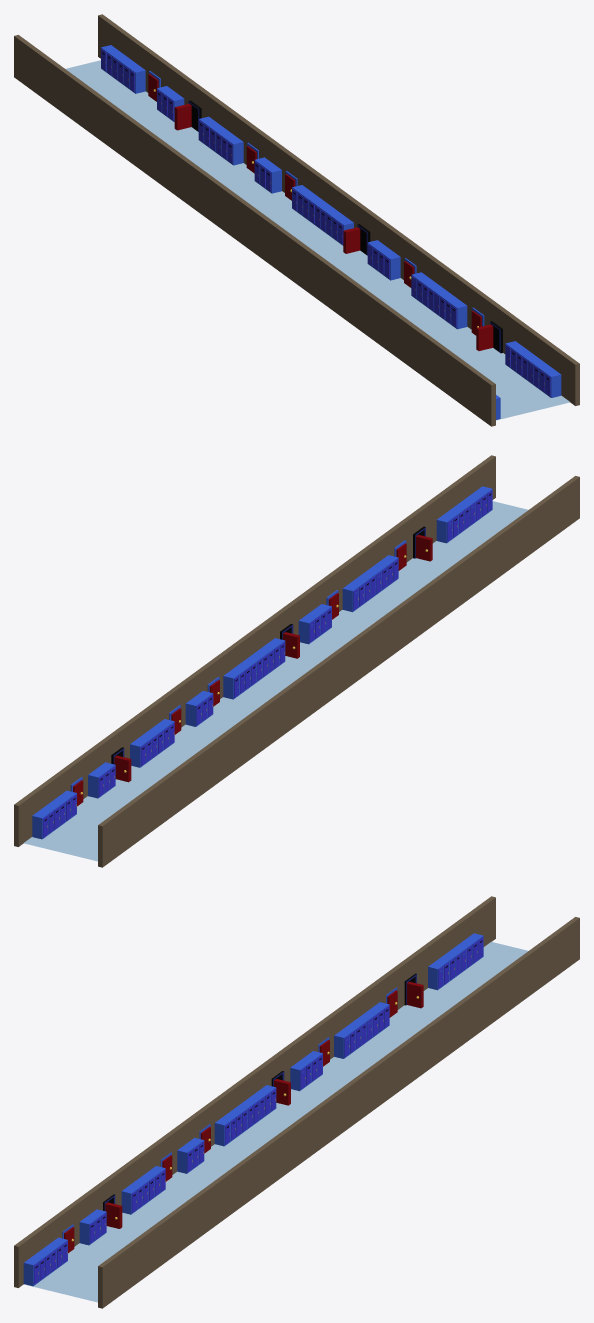
The model's file is Hall.fbx.
3 views of the same model, one above another, from view 1: azimuth 30°, elevation 25°; view 2: azimuth 150°, elevation 25°; view 3: azimuth 330°, elevation 25° (orthographic).
Parts seen in each view (by area): view 1: Cube, Plane.062, Cube.002; view 2: Cube, Plane.062, Cube.002; view 3: Cube.002, Plane.062, Cube.
Boxes of the visible parts, <box> form: Cube: <box>14,35,495,426</box>; Plane.062: <box>66,60,569,420</box>; Cube.002: <box>98,14,579,405</box>; Cube: <box>98,476,579,867</box>; Plane.062: <box>24,501,528,861</box>; Cube.002: <box>14,455,495,846</box>; Cube.002: <box>98,917,579,1308</box>; Plane.062: <box>24,942,527,1302</box>; Cube: <box>14,896,495,1287</box>.
Bounding box in the file's own units: 1749 × 781 × 16320.
